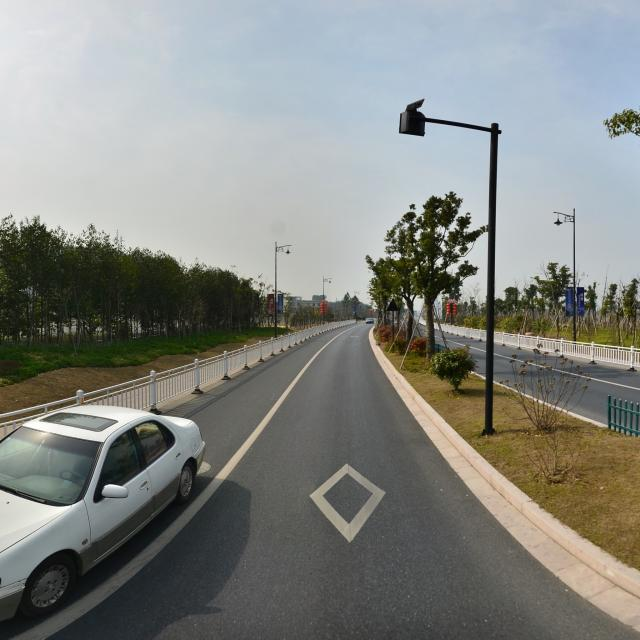car: (2, 404, 206, 615), (365, 317, 374, 323)
pole: (478, 133, 502, 429), (570, 223, 578, 340), (273, 266, 279, 336), (322, 283, 325, 324)
